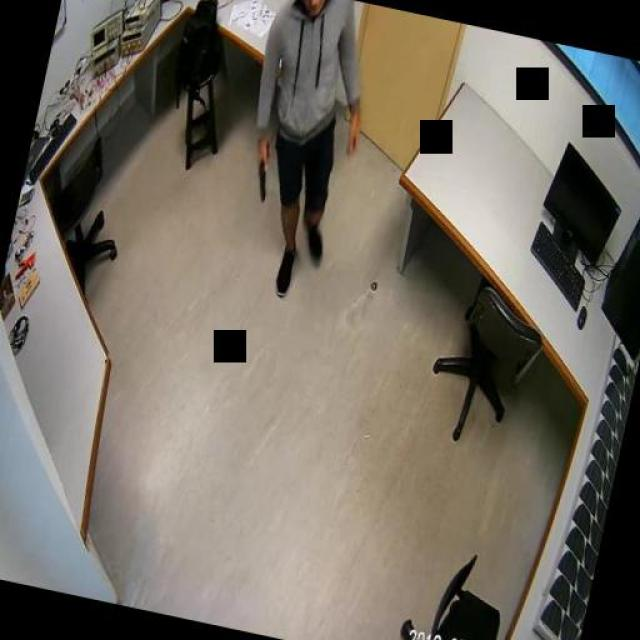gun: (248, 140, 276, 200)
